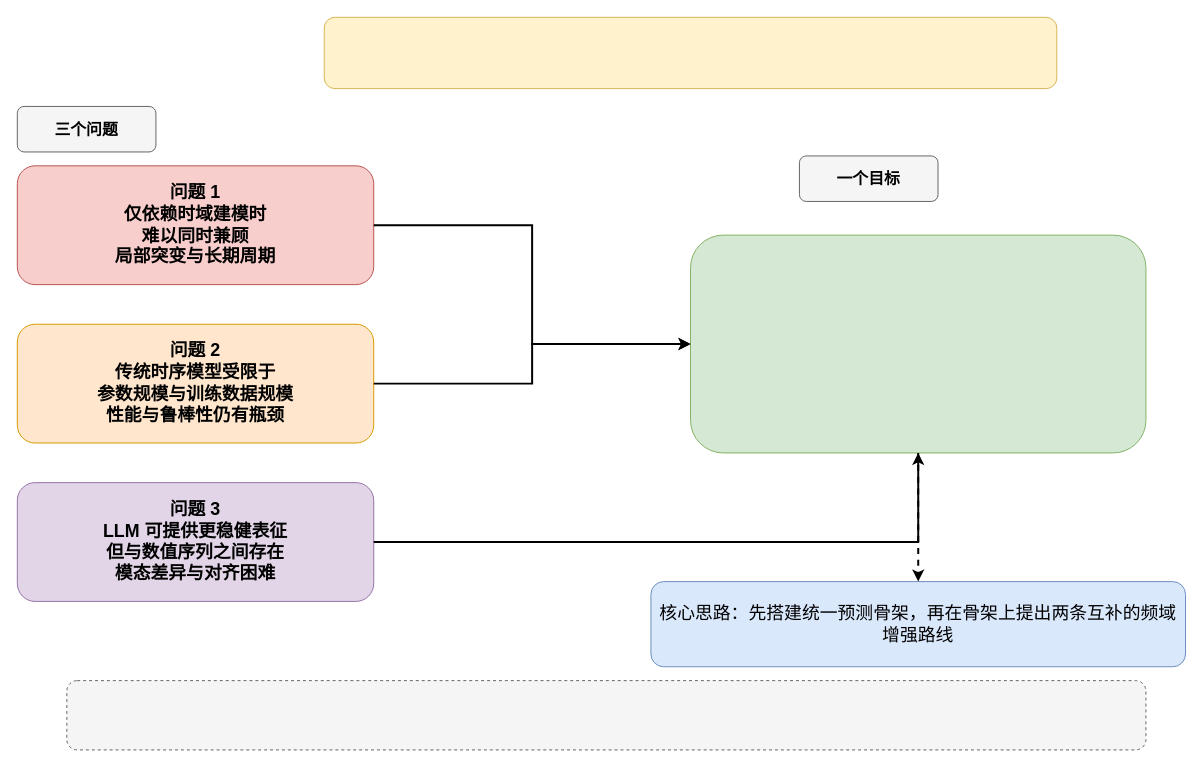
Some shapes in this 1203 by 767 pixel diagram are drawn without their labels. Here are the shapes that lost their labels. From the top down, the box of each, then its label:
(323, 16, 1057, 89): Chapter 3 Research Questions and Main Idea 研究问题与论文思路示意图
(690, 234, 1146, 453): 目标 在统一框架中稳定融合 语义信息与频域信息 构建可协同优化的预测流程
(66, 680, 1146, 750): 例子：在投资决策场景中，仅看股票自身历史价格还不够，汇率、利率、行业景气度等变量也会共同影响预测。
